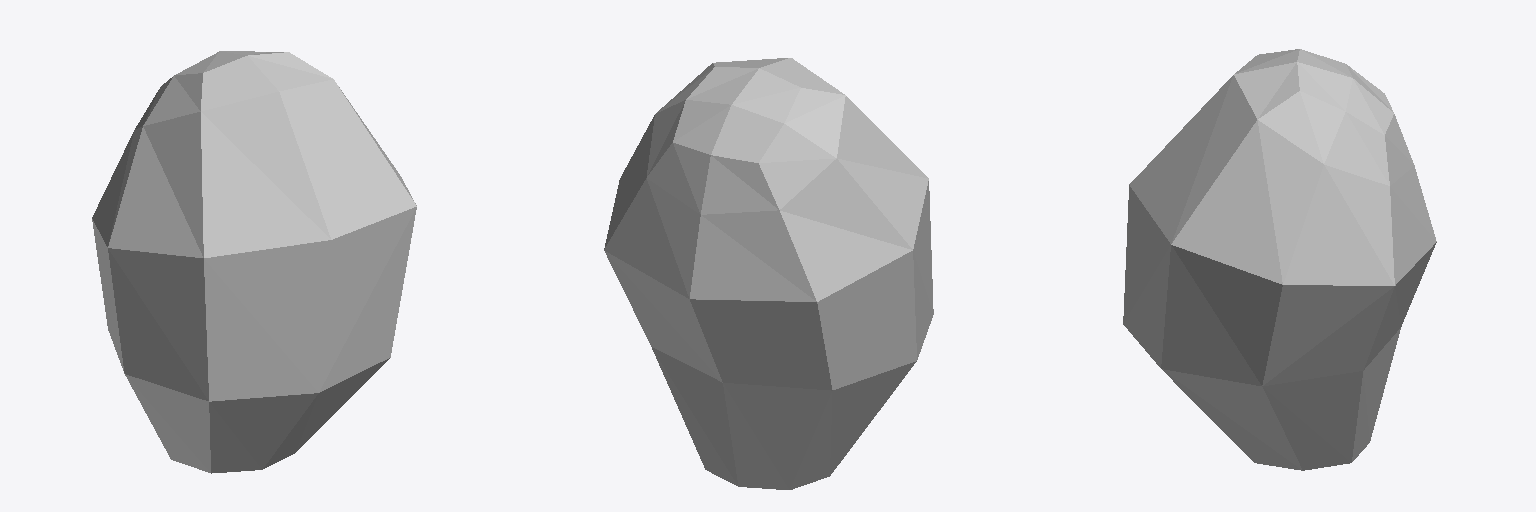
The model's file is cactus_s.obj.
The picture shows the model from 3 angles: view 1: azimuth 30°, elevation 25°; view 2: azimuth 150°, elevation 25°; view 3: azimuth 270°, elevation 25°; orthographic projection.
Visible parts, largest first — view 1: Cactus1.002_Cube.008; view 2: Cactus1.002_Cube.008; view 3: Cactus1.002_Cube.008.
Boxes of the visible parts, box(x1,y1,x2,y2) form: Cactus1.002_Cube.008: box(92, 51, 416, 473); Cactus1.002_Cube.008: box(604, 58, 933, 489); Cactus1.002_Cube.008: box(1123, 49, 1436, 470).
Bounding box in the file's own units: 5.01 × 6.34 × 4.64.